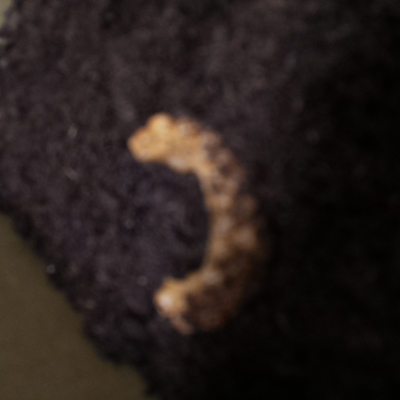eggs: (114, 103, 286, 340)
